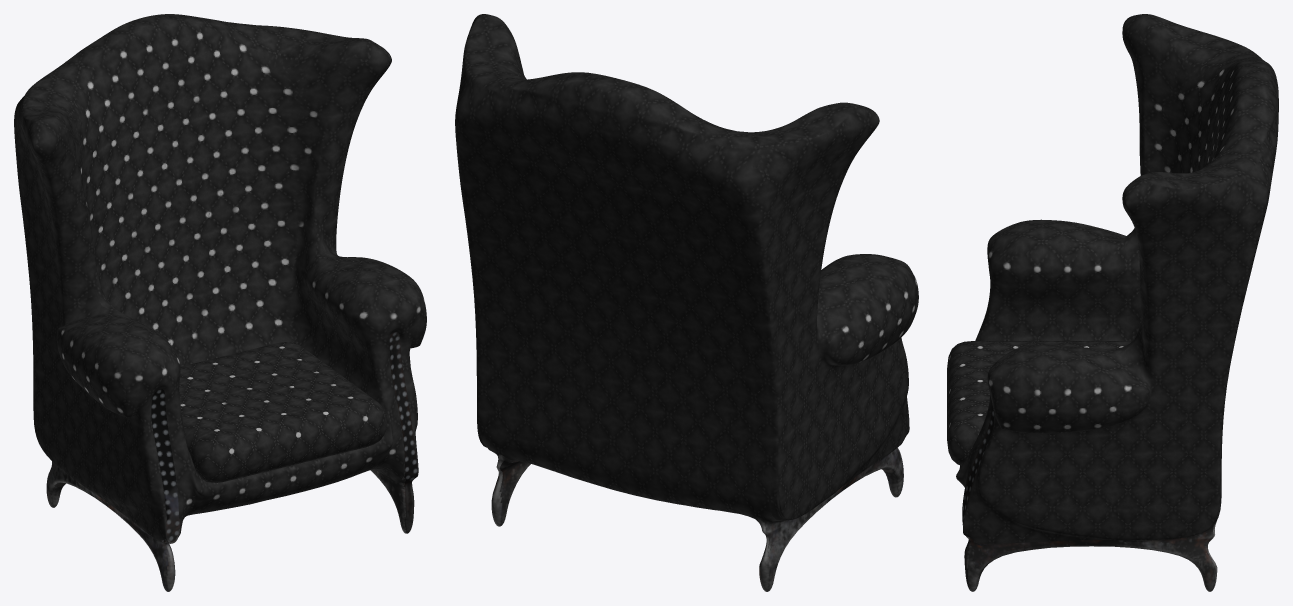
3 views of the same model, side by side, from view 1: azimuth 30°, elevation 25°; view 2: azimuth 150°, elevation 25°; view 3: azimuth 270°, elevation 25° (orthographic). The views are drawn at different scales.
Visible parts, largest first — view 1: chair, cushion; view 2: chair; view 3: chair, cushion.
Part boxes in pixels (x1,y1,x2,y2): chair: (14,14,426,591); cushion: (179,342,387,482); chair: (455,14,918,591); chair: (956,14,1278,591); cushion: (947,341,1131,465).
Size of the model in its own units: 147 by 174 by 115.
Materials: 3 (3 with a texture image).
